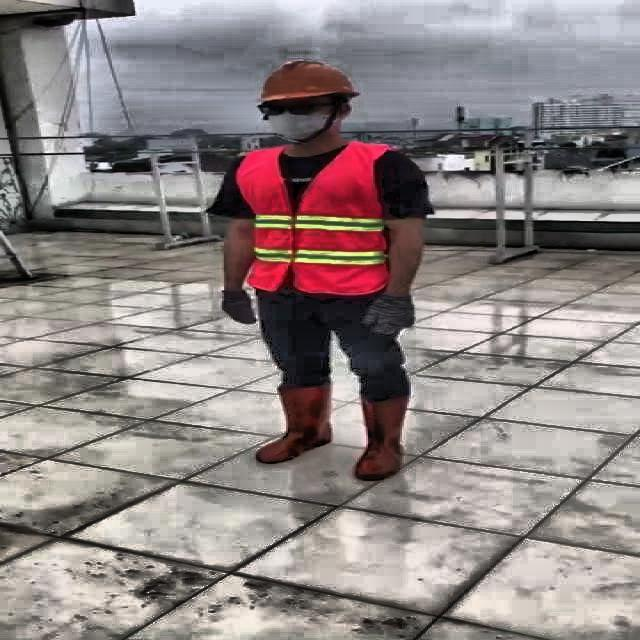safety_helmet: (253, 55, 364, 107)
safety_jacket: (240, 144, 390, 296)
